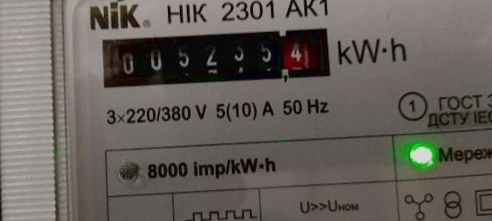0: (118, 49, 136, 76), (147, 45, 163, 71)
2: (202, 40, 217, 66)
3: (229, 36, 245, 62)
4: (287, 37, 303, 63)
5: (256, 36, 273, 64), (174, 42, 190, 69)
screen: (90, 14, 342, 100)
